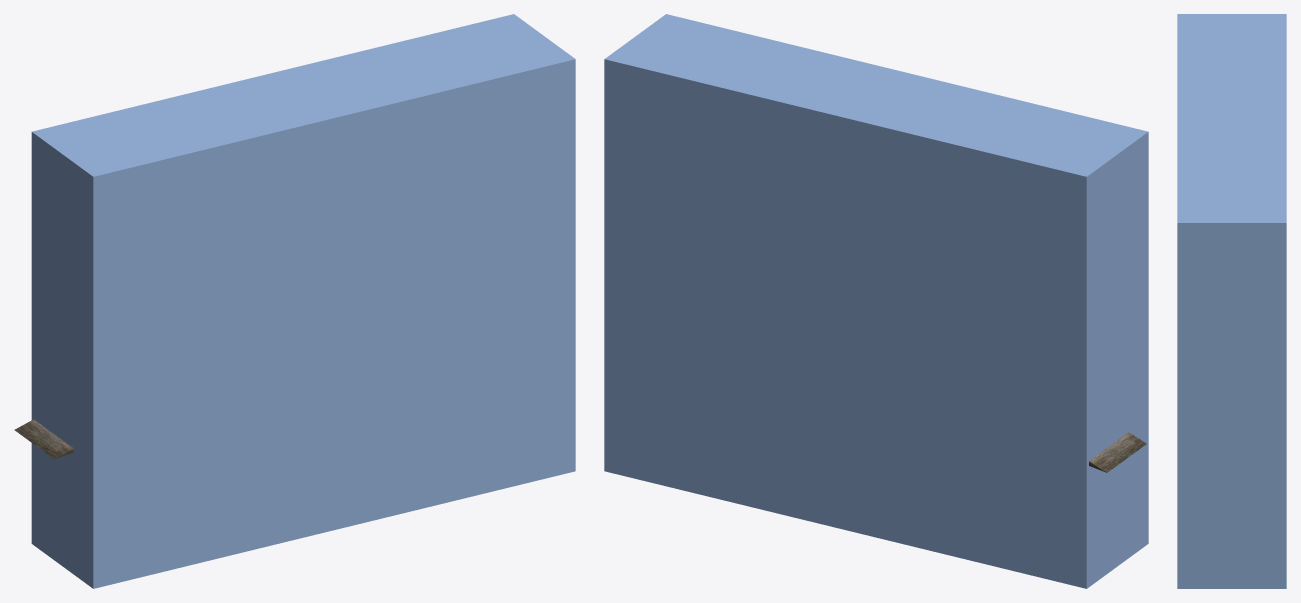
File: bridge.DAE
3 renders of one model, left to right at view 1: azimuth 30°, elevation 25°; view 2: azimuth 150°, elevation 25°; view 3: azimuth 270°, elevation 25°, orthographic. The views are drawn at different scales.
Parts seen in each view (by area): view 1: bounds, col-1; view 2: bounds, col-1; view 3: bounds.
Part boxes in pixels (x1,y1,x2,y2): bounds: (31,14,575,588); col-1: (14,419,73,458); bounds: (604,14,1148,588); col-1: (1089,432,1146,472); bounds: (1177,14,1286,588).
Bounding box in the file's own units: 17.12 × 3.65 × 13.45.
